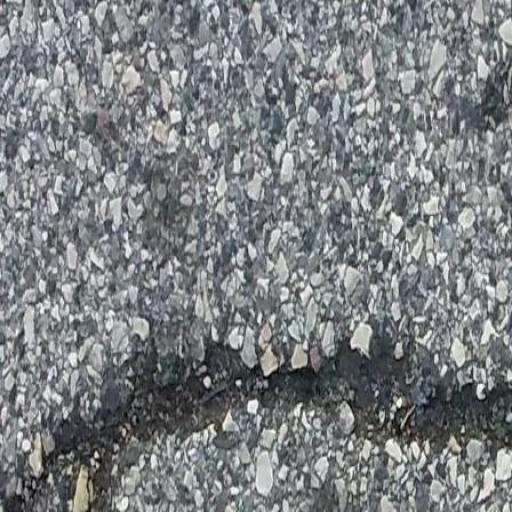spalling: (2, 321, 510, 504)
